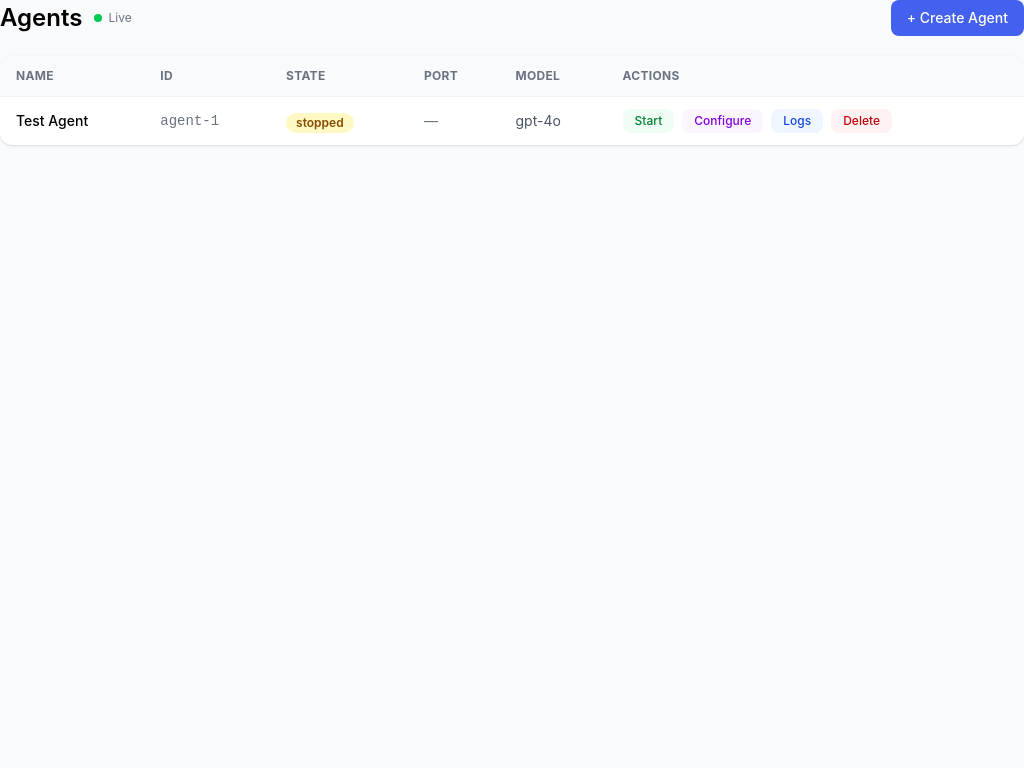
Scenario: Configure Modal › shows error and keeps modal open on failure
Click the button "Configure".
click(723, 121)  # box left=682, top=109, right=763, bottom=133
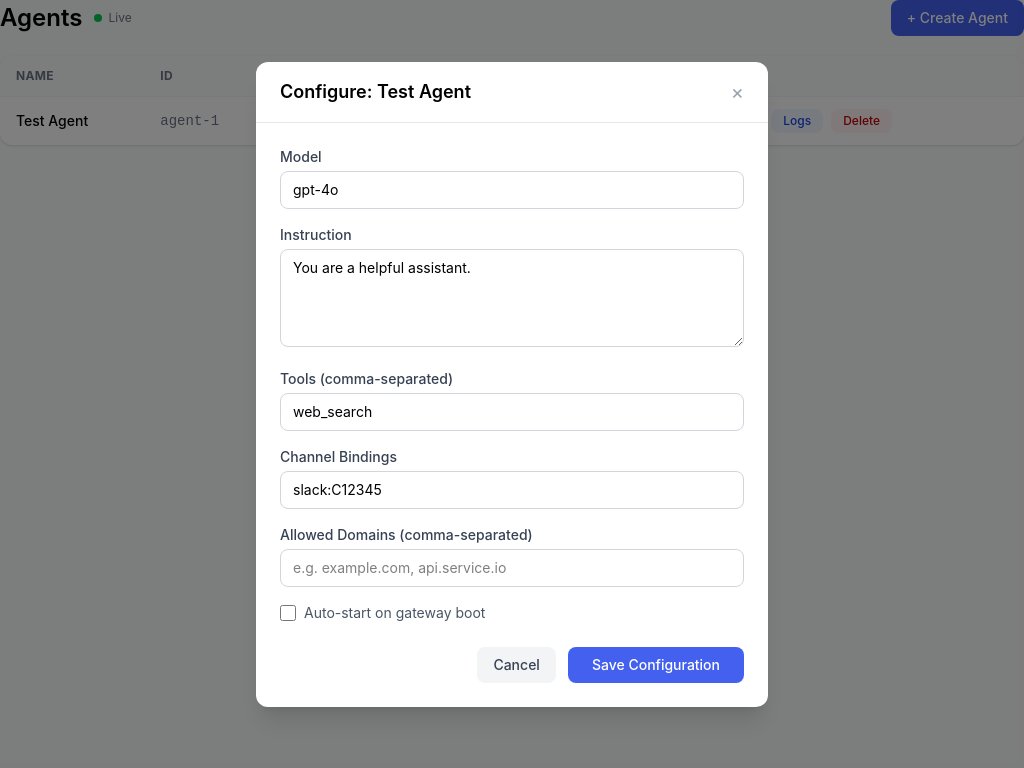
Check: the heading "Configure: Test Agent" is shown, box left=280, top=78, right=471, bottom=106
Click the button "Save Configuration".
click(656, 664)  # box left=568, top=646, right=744, bottom=682
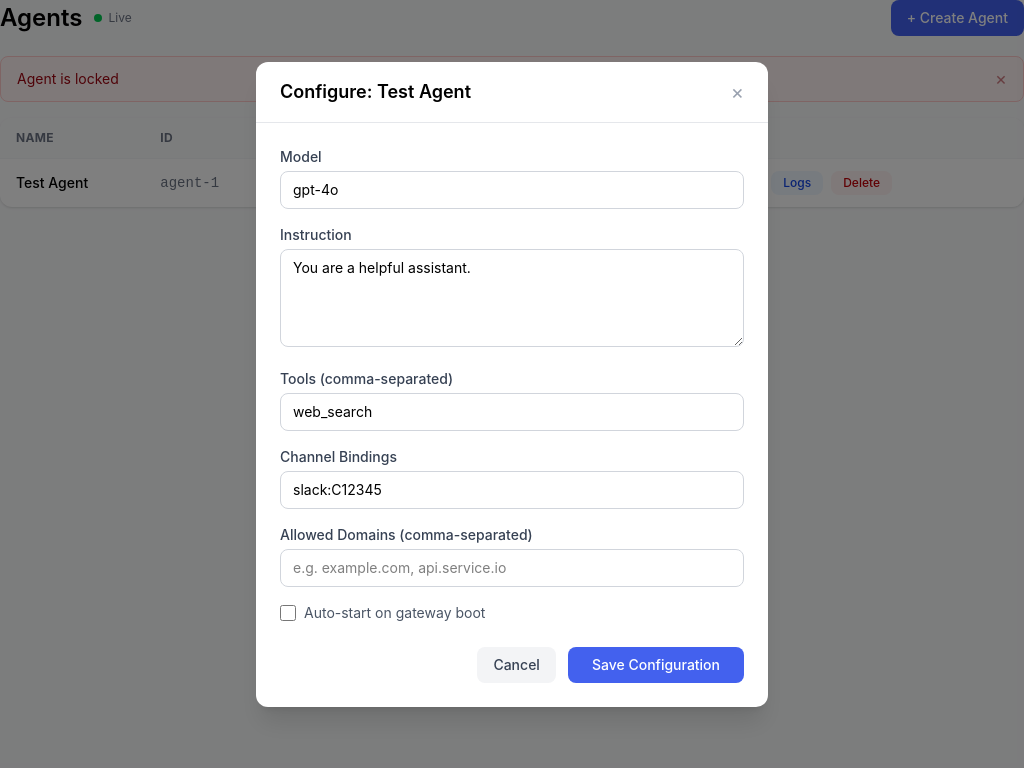
Check: the heading "Configure: Test Agent" is shown, box left=280, top=78, right=471, bottom=106
Check: the text "Agent is locked" is shown, box left=17, top=69, right=119, bottom=89
